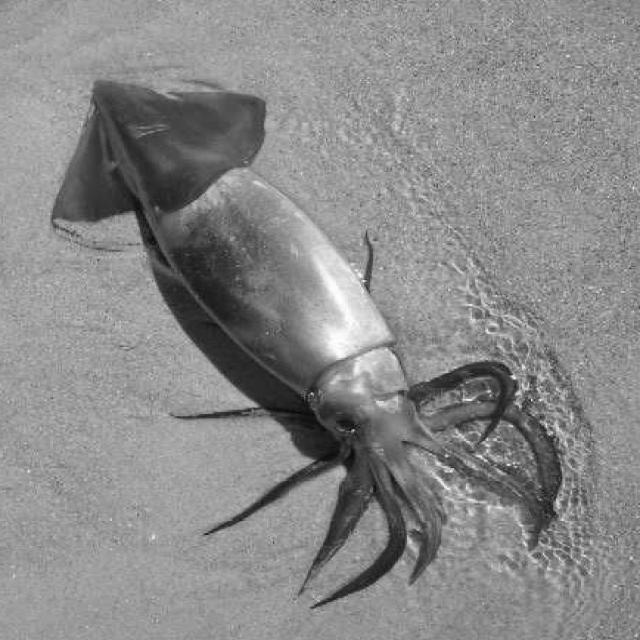SQUID: (30, 54, 593, 636)
